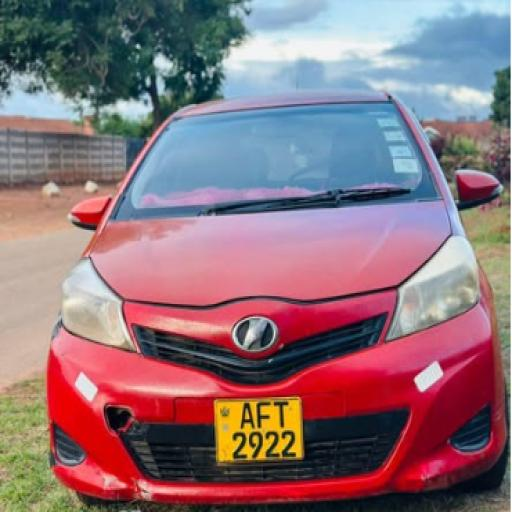number-plates: (214, 397, 300, 459)
